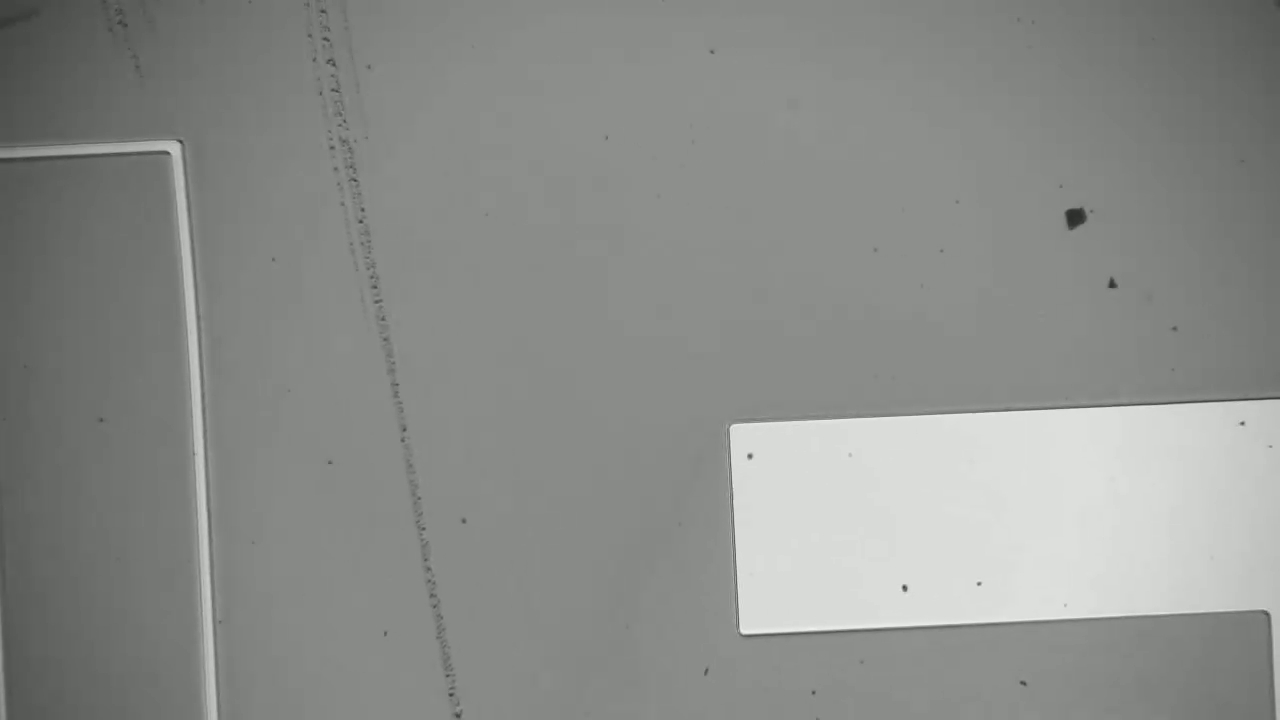scratch: (308, 9, 471, 720), (109, 2, 150, 79)
